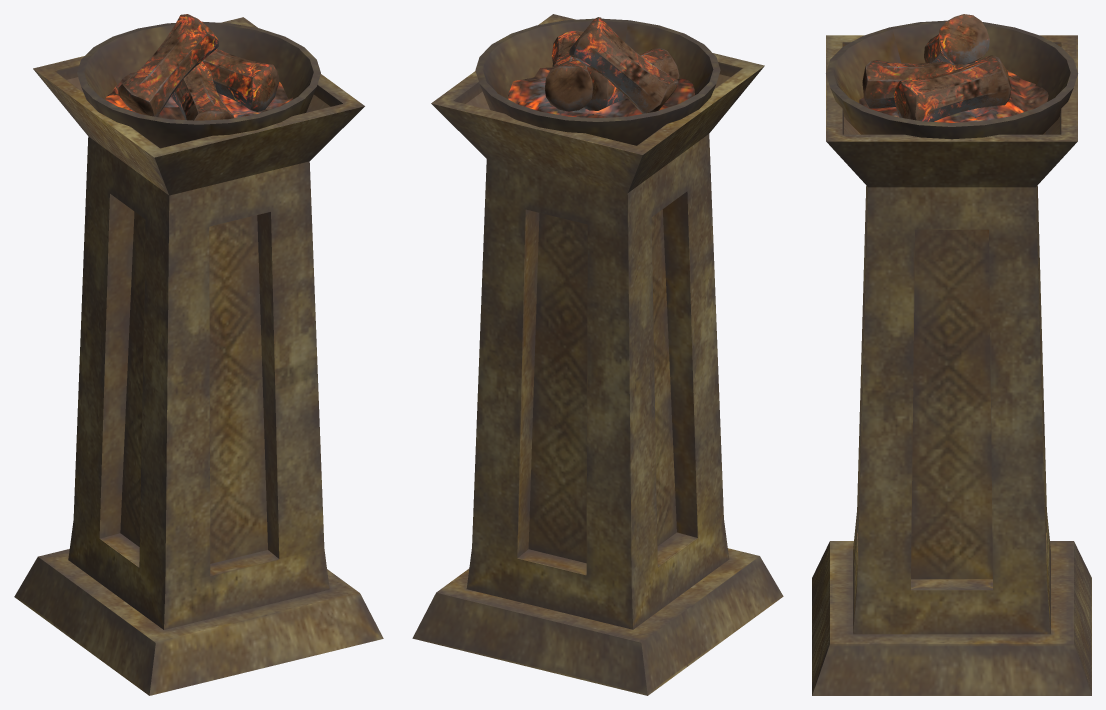
File: Brazier.fbx
3 renders of one model, left to right at view 1: azimuth 30°, elevation 25°; view 2: azimuth 150°, elevation 25°; view 3: azimuth 270°, elevation 25°, orthographic. The views are drawn at different scales.
Visible parts, largest first — view 1: Cube, Sphere, Cube.002, Cube.003, Cube.004, Sphere.001; view 2: Cube, Sphere, Cube.002, Cube.003, Sphere.001, Cube.004; view 3: Cube, Sphere, Cube.003, Cube.002, Cube.004, Sphere.001.
Part boxes in pixels (box(x1,y1,x2,y2)): Cube: box(14, 17, 383, 695); Sphere: box(77, 21, 320, 148); Cube.002: box(118, 14, 218, 116); Cube.003: box(202, 48, 279, 111); Cube.004: box(171, 61, 234, 120); Sphere.001: box(105, 72, 292, 119); Cube: box(412, 14, 783, 695); Sphere: box(475, 18, 720, 145); Cube.002: box(569, 17, 678, 113); Cube.003: box(545, 30, 593, 111); Sphere.001: box(508, 67, 694, 117); Cube.004: box(584, 48, 679, 110); Cube: box(812, 35, 1091, 695); Sphere: box(826, 20, 1077, 139); Cube.003: box(894, 55, 1011, 121); Cube.002: box(924, 14, 989, 64); Cube.004: box(862, 60, 972, 108); Sphere.001: box(859, 61, 1048, 122).
Size of the model in its own units: 47.82 by 117 by 47.82.
